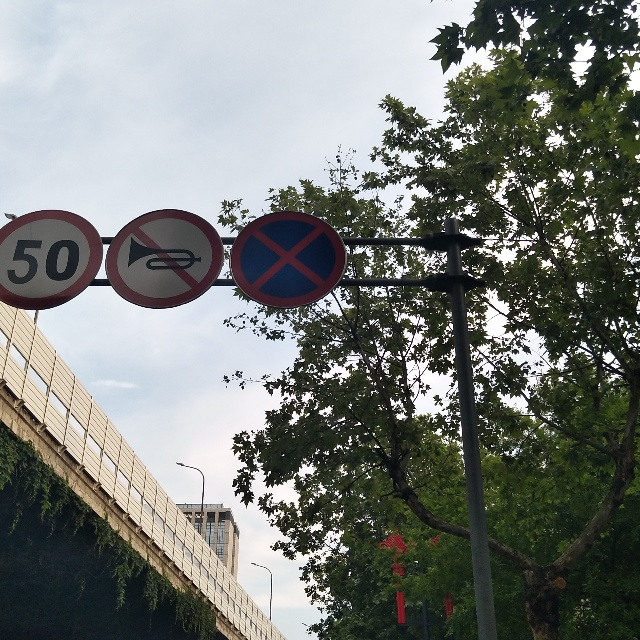nohonk: (121, 216, 219, 295)
stop: (240, 218, 339, 297)
